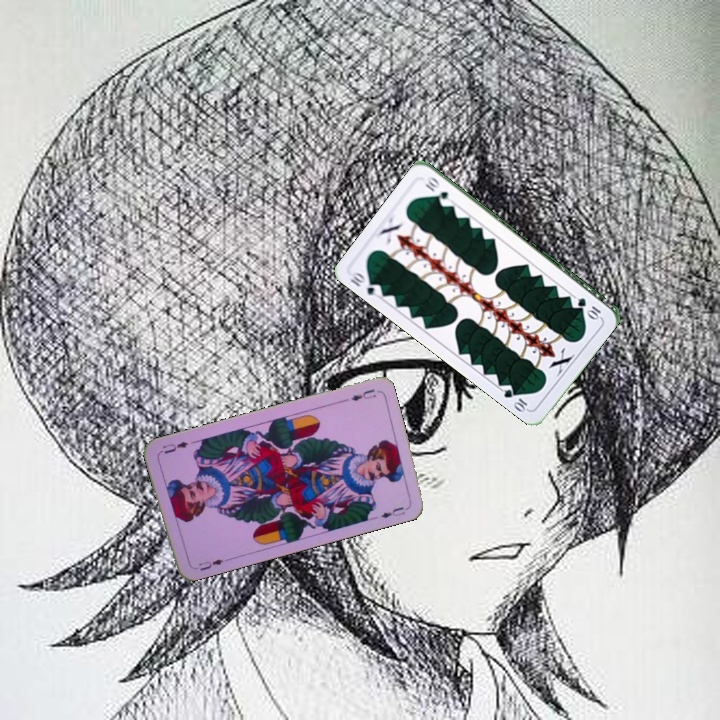EU: (190, 555, 225, 573), (347, 385, 379, 404)
G10: (346, 268, 385, 300), (574, 294, 603, 321)
